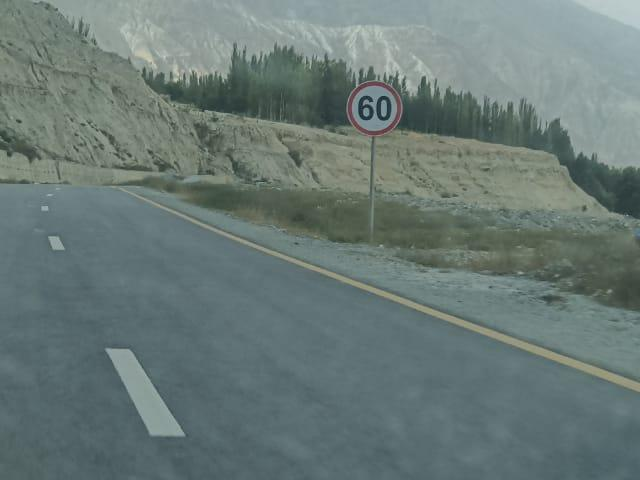right_turn: (0, 133, 194, 216)
